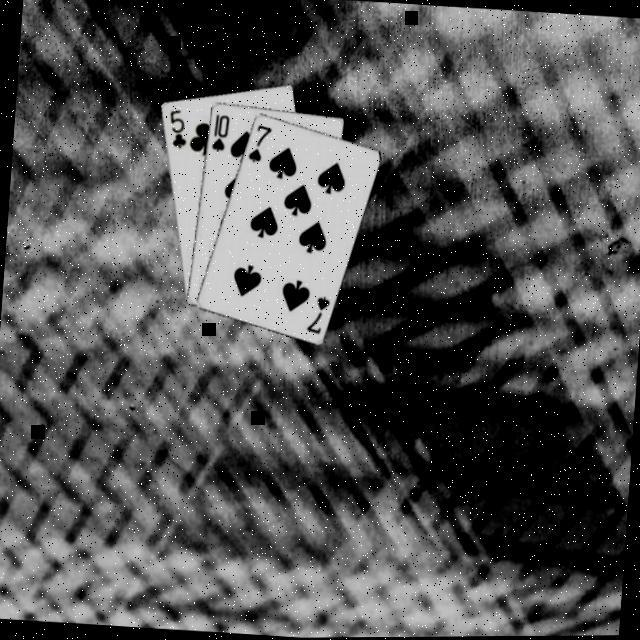10S: (208, 111, 232, 155)
5C: (164, 106, 192, 152)
7S: (303, 293, 333, 338), (245, 122, 275, 166)
